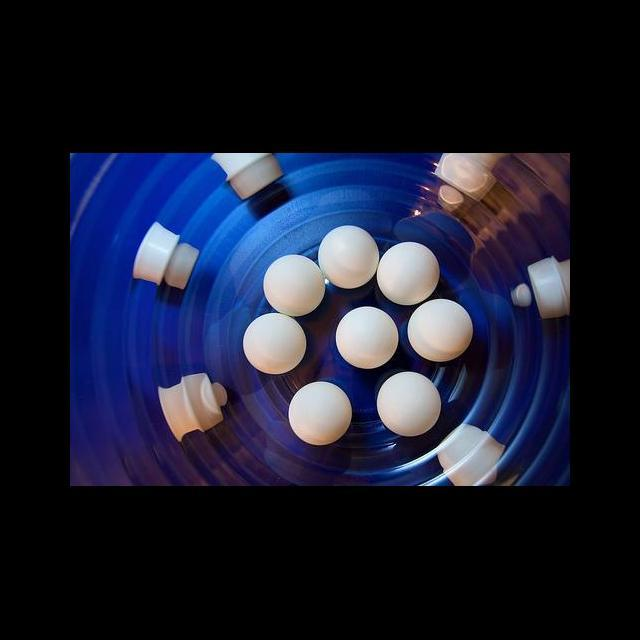ping-pong-ball: (287, 382, 353, 448), (408, 298, 476, 362), (377, 372, 442, 438), (376, 240, 440, 306), (263, 255, 326, 318), (334, 308, 398, 370), (243, 314, 308, 374), (318, 226, 379, 289)
